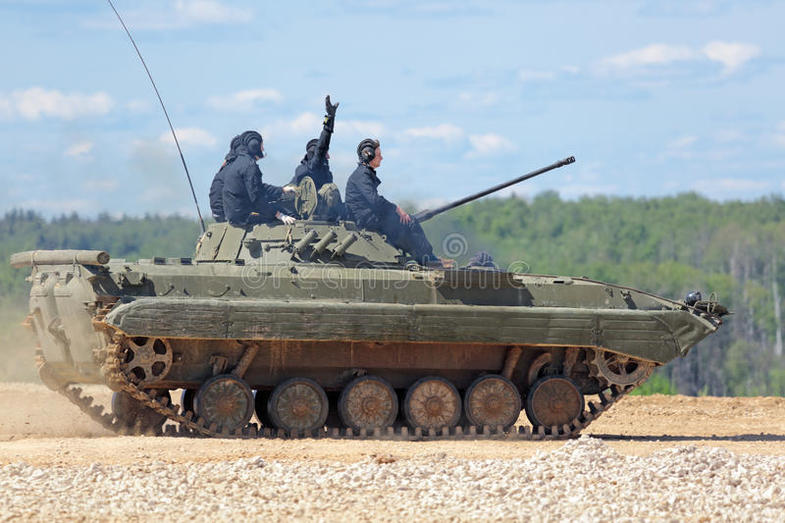bmp: (28, 209, 722, 444)
